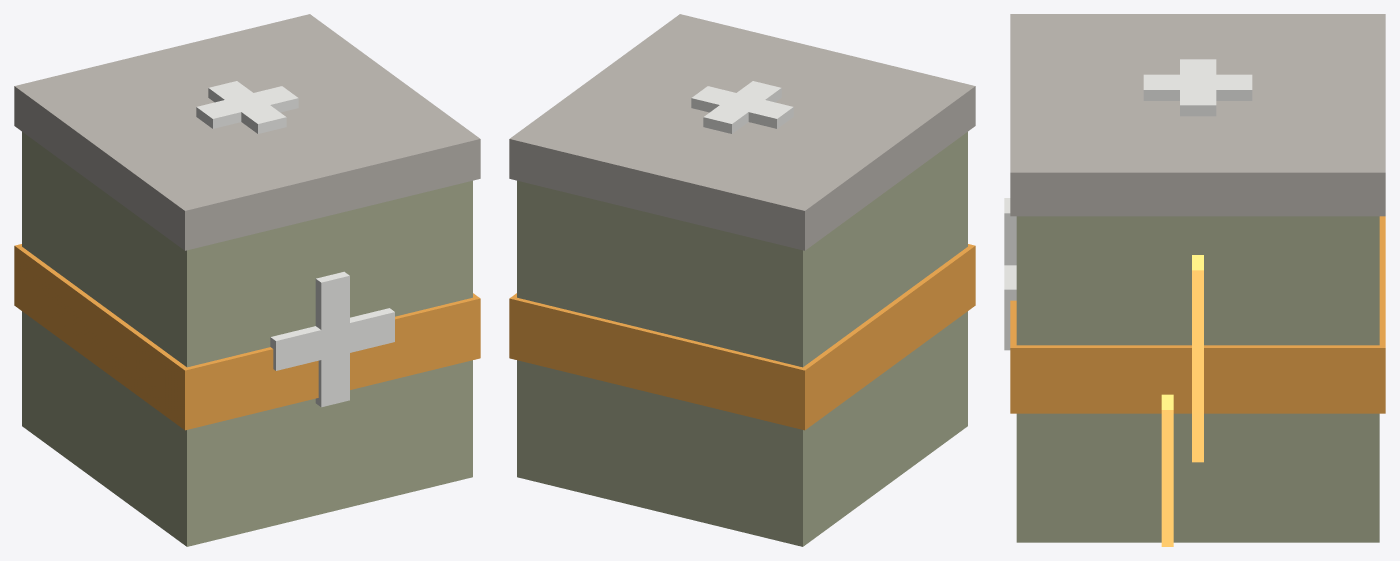
File: SupplyCrate.glb
The picture shows the model from 3 angles, left to right: view 1: azimuth 30°, elevation 25°; view 2: azimuth 150°, elevation 25°; view 3: azimuth 270°, elevation 25°; orthographic projection. The views are drawn at different scales.
Bounding box in the file's own units: 0.68 × 0.7 × 0.63.
